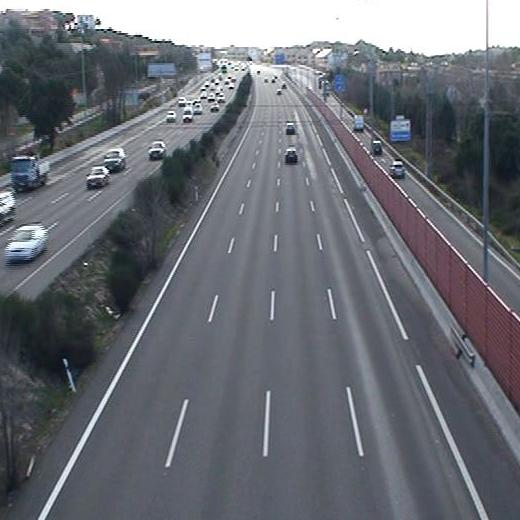car: (284, 148, 299, 163), (284, 123, 295, 135)
